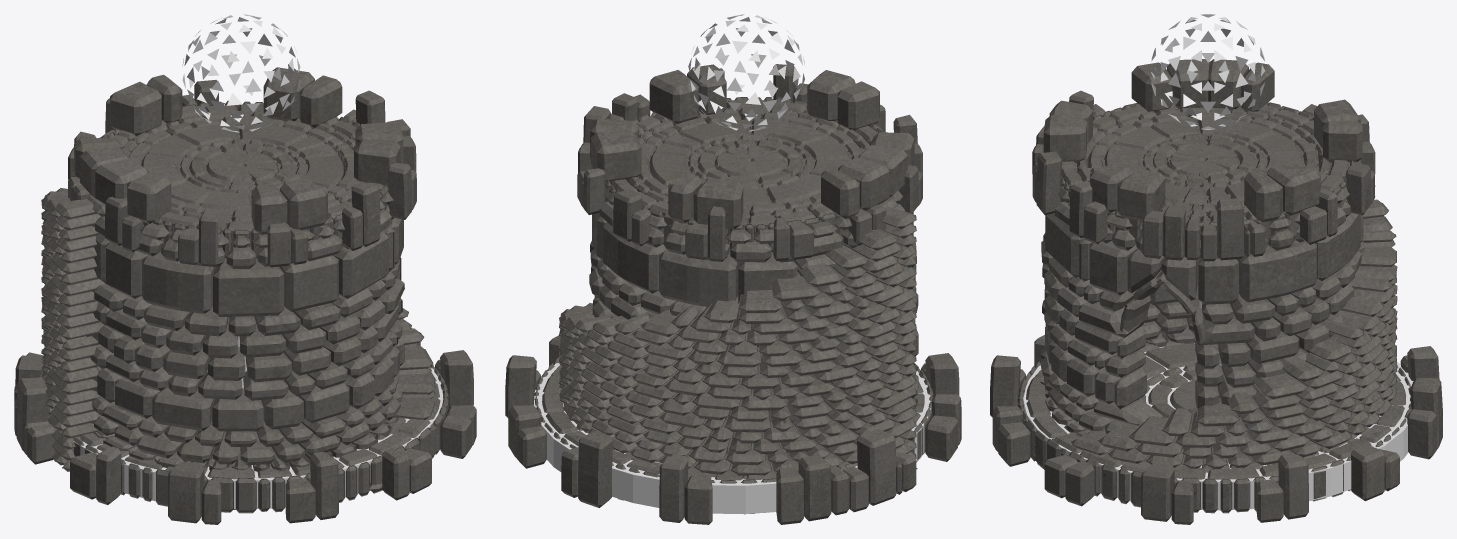
Rendered from tower 5.fbx.
3 renders of one model, left to right at view 1: azimuth 30°, elevation 25°; view 2: azimuth 150°, elevation 25°; view 3: azimuth 270°, elevation 25°, orthographic.
Visible parts, largest first — view 1: Wall.026, Wall.023, Wall.021, Icosphere.004, Circle.005, Wall.022; view 2: Wall.026, Wall.023, Wall.021, Circle.005, Icosphere.004, Wall.022; view 3: Wall.026, Wall.023, Wall.021, Circle.005, Icosphere.004, Wall.022.
Part boxes in pixels (left/top/right/bottom): Wall.026: left=41, top=67, right=435, bottom=492; Wall.023: left=68, top=80, right=416, bottom=267; Wall.021: left=14, top=328, right=476, bottom=524; Icosphere.004: left=182, top=14, right=300, bottom=132; Circle.005: left=55, top=367, right=443, bottom=509; Wall.022: left=127, top=118, right=357, bottom=219; Wall.026: left=559, top=64, right=918, bottom=478; Wall.023: left=577, top=64, right=922, bottom=261; Wall.021: left=505, top=335, right=961, bottom=524; Circle.005: left=534, top=363, right=931, bottom=513; Icosphere.004: left=688, top=14, right=804, bottom=131; Wall.022: left=637, top=115, right=864, bottom=216; Wall.026: left=1030, top=59, right=1397, bottom=472; Wall.023: left=1032, top=90, right=1375, bottom=261; Wall.021: left=990, top=318, right=1442, bottom=524; Circle.005: left=1023, top=343, right=1413, bottom=510; Icosphere.004: left=1151, top=14, right=1264, bottom=129; Wall.022: left=1086, top=109, right=1319, bottom=215.
Bounding box in the file's own units: 2060 × 2045 × 2061.
